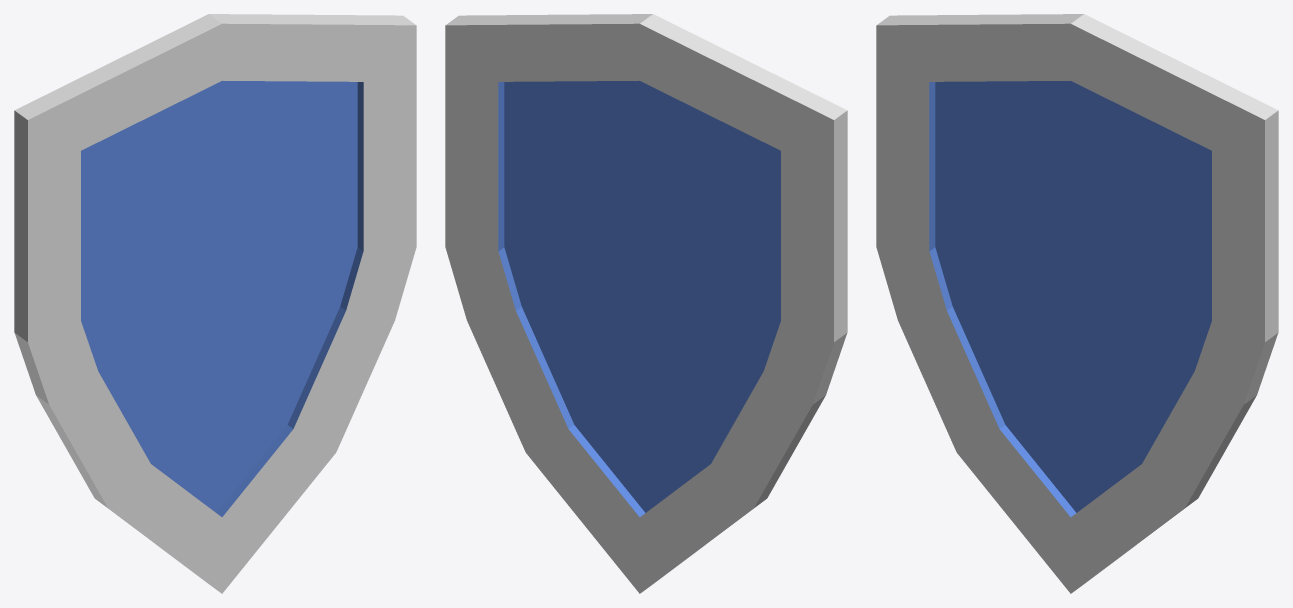
File: Shield.fbx
The picture shows the model from 3 angles, left to right: view 1: azimuth 30°, elevation 25°; view 2: azimuth 150°, elevation 25°; view 3: azimuth 330°, elevation 25°; orthographic projection.
Parts seen in each view (by area): view 1: Cube; view 2: Cube; view 3: Cube.
Part boxes in pixels (x1,y1,x2,y2): Cube: (14, 14, 416, 593); Cube: (445, 14, 847, 593); Cube: (876, 14, 1278, 593).
Size of the model in its own units: 200 by 280 by 11.92.
